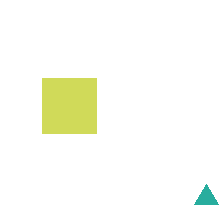rectangle: (42, 78, 96, 133)
triangle: (194, 184, 218, 204)
